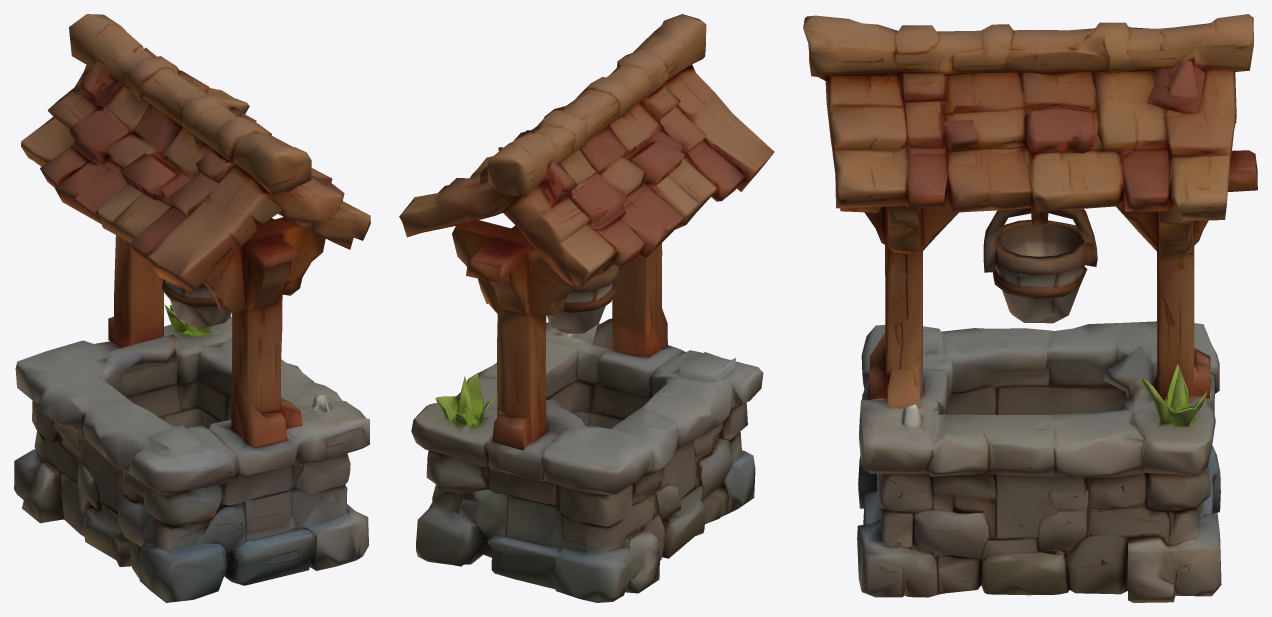
File: well.glb
3 views of the same model, side by side, from view 1: azimuth 30°, elevation 25°; view 2: azimuth 150°, elevation 25°; view 3: azimuth 270°, elevation 25° (orthographic). The views are drawn at different scales.
Visible parts, largest first — view 1: tripo_node_477044c0-f77b-4790-922a-42ebf9e09877; view 2: tripo_node_477044c0-f77b-4790-922a-42ebf9e09877; view 3: tripo_node_477044c0-f77b-4790-922a-42ebf9e09877.
Boxes of the visible parts, <box> form: tripo_node_477044c0-f77b-4790-922a-42ebf9e09877: <box>14,14,370,602</box>; tripo_node_477044c0-f77b-4790-922a-42ebf9e09877: <box>399,14,774,602</box>; tripo_node_477044c0-f77b-4790-922a-42ebf9e09877: <box>803,14,1257,602</box>.
Bounding box in the file's own units: 0.5461 × 1 × 0.7908.
Materials: 1 (1 with a texture image).
